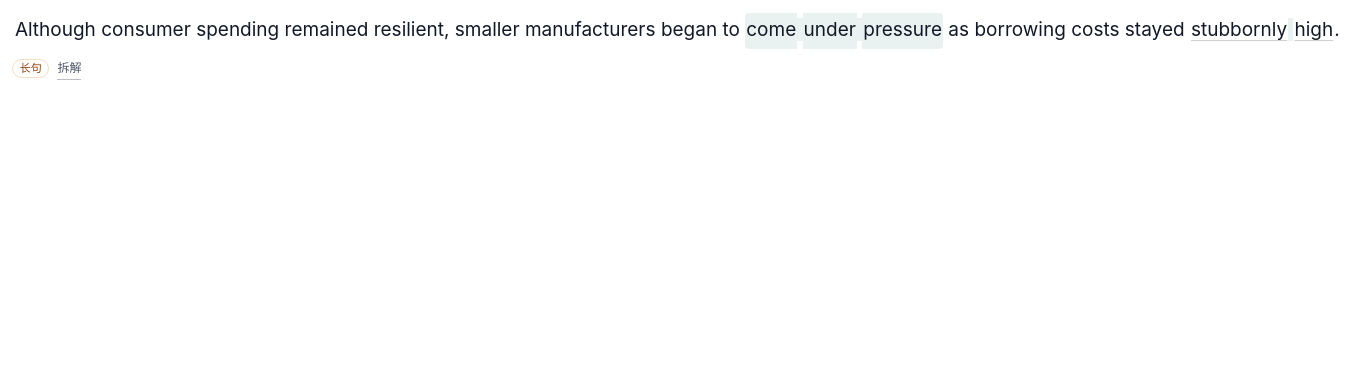
Test case: SentenceBlock › shows the long sentence breakdown
Click the button "拆解": (69,69) [57, 58, 81, 80]
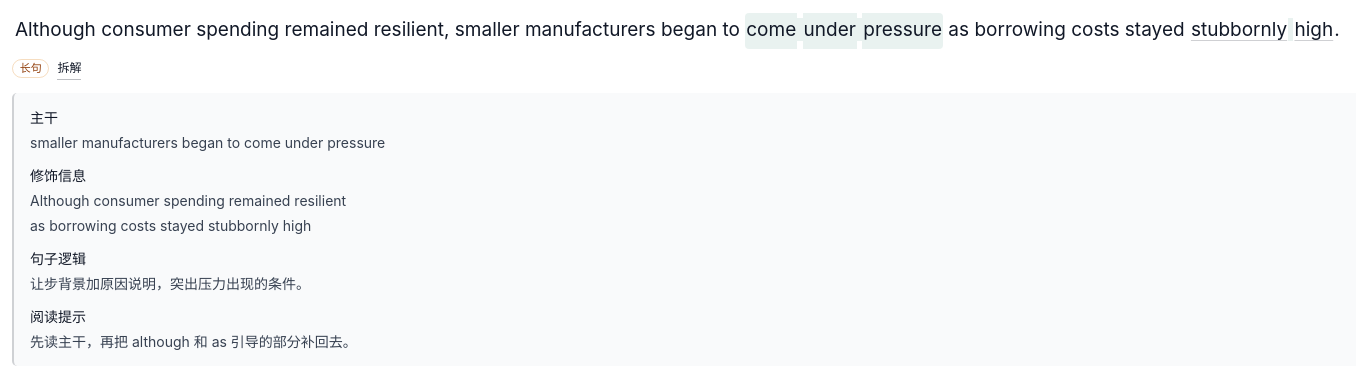
Now the text "主干" is shown, box [30, 109, 58, 126]
Now the text "smaller manufacturers began to come under pressure" is shown, box [30, 134, 385, 151]
Now the text "修饰信息" is shown, box [30, 167, 86, 184]
